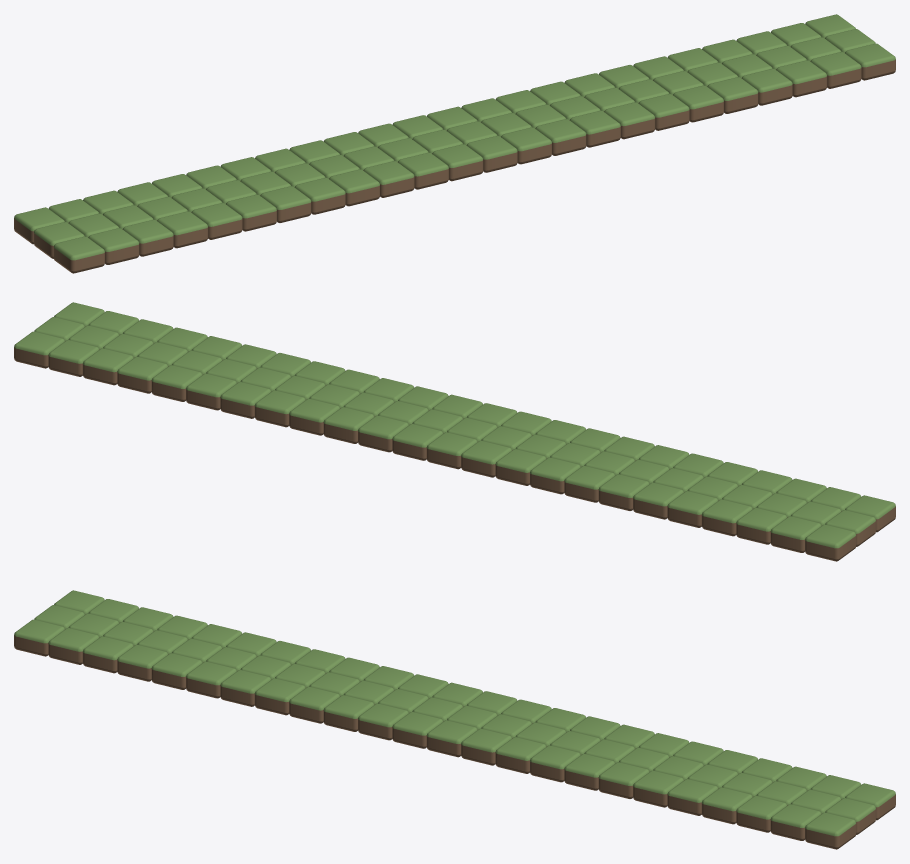
3 views of the same model, one above another, from view 1: azimuth 30°, elevation 25°; view 2: azimuth 150°, elevation 25°; view 3: azimuth 330°, elevation 25° (orthographic).
Parts seen in each view (by area): view 1: 11, 14, 122, 112, 121, 13, 16, 117, 17, 18, 119, 124 (+60 smaller); view 2: 31, 34, 322, 312, 321, 33, 36, 317, 37, 38, 319, 324 (+60 smaller); view 3: 124, 121, 13, 14, 113, 18, 119, 122, 11, 16, 117, 118 (+60 smaller).
Boxes of the visible parts, x1,y1,x2,y2 form: 11: (53,236,104,273); 14: (157,211,208,248); 122: (776,60,827,97); 112: (432,144,483,181); 121: (742,68,792,105); 13: (123,219,173,256); 16: (226,194,276,231); 117: (604,102,655,139); 17: (260,186,311,222); 18: (294,177,345,214); 119: (673,85,723,122); 124: (845,43,895,80); 31: (805,524,856,561); 34: (701,499,752,536); 322: (82,348,133,385); 312: (426,432,477,469); 321: (117,356,167,393); 33: (736,507,786,544); 36: (633,482,683,519); 317: (254,390,305,427); 37: (598,474,649,510); 38: (564,465,615,502); 319: (186,373,236,410); 324: (14,331,64,368); 124: (805,812,856,849); 121: (701,787,752,824); 13: (82,636,133,673); 14: (117,644,167,681); 113: (426,720,477,757); 18: (254,678,305,715); 119: (633,770,683,807); 122: (736,795,786,832); 11: (14,619,64,656); 16: (186,661,236,698); 117: (564,753,615,790); 118: (598,762,649,798).
Size of the model in its own units: 300 by 50 by 2400.
